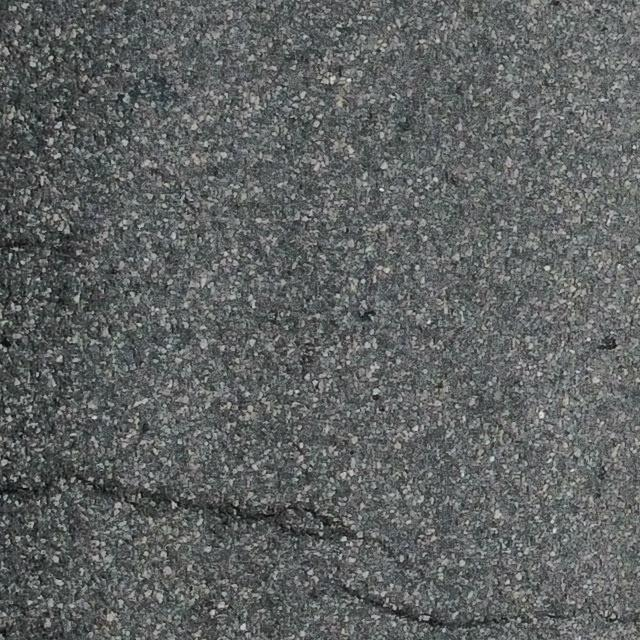TransverseCrack: (3, 469, 387, 550), (325, 580, 572, 628)
